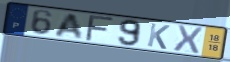6: (30, 9, 54, 37)
9: (115, 18, 143, 48)
A: (53, 12, 84, 40)
F: (83, 14, 117, 43)
K: (146, 22, 172, 51)
X: (172, 24, 204, 55)
